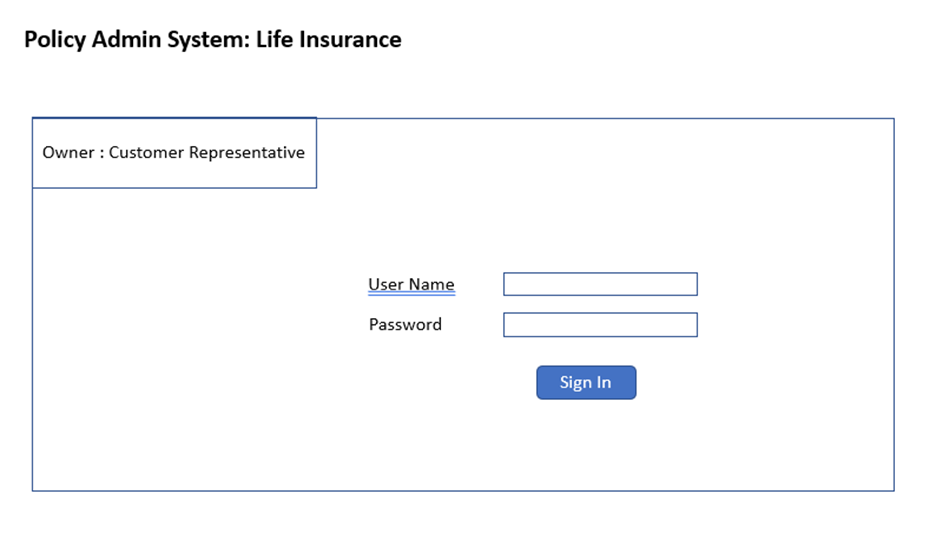button: (529, 360, 646, 407)
